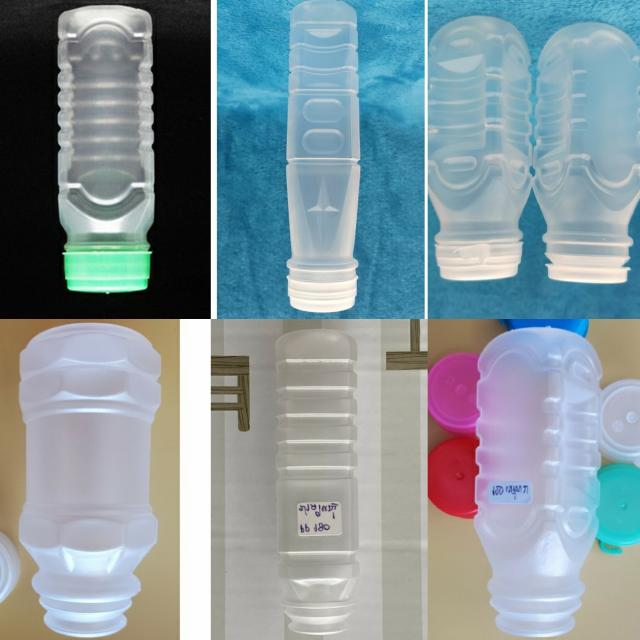plastik: (19, 323, 160, 636), (474, 325, 603, 636), (57, 5, 154, 293), (533, 23, 640, 283), (427, 16, 531, 281), (275, 330, 359, 635), (286, 0, 360, 312)
